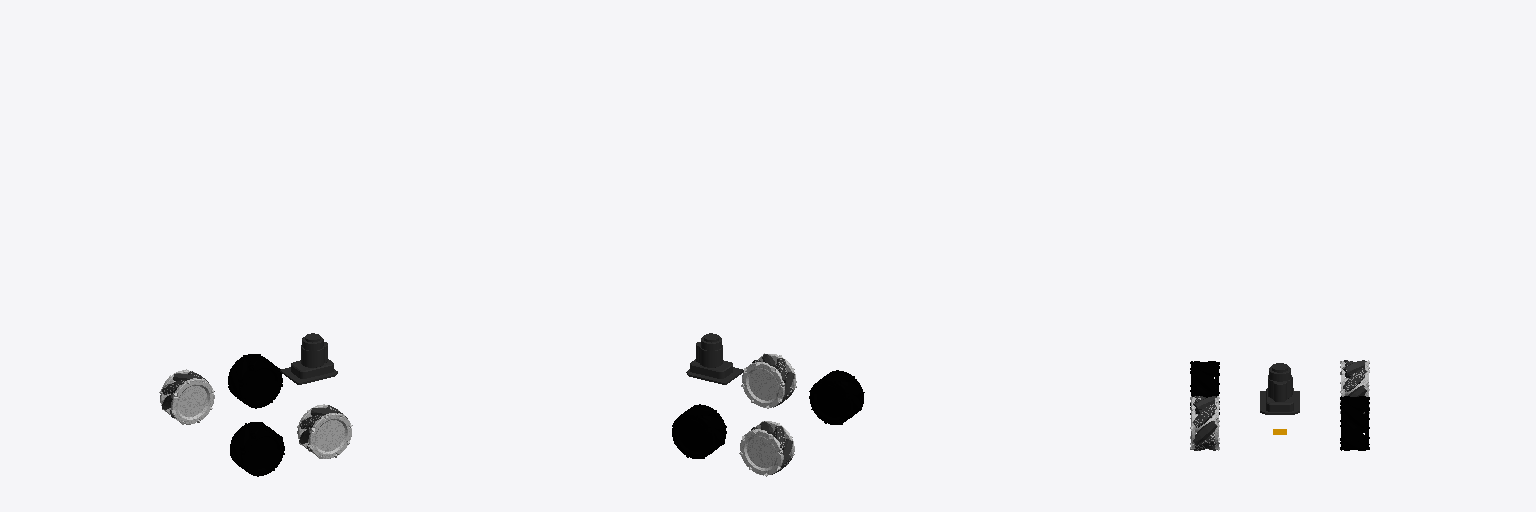
robot.urdf — WPV4_MW_WPM2:
<?xml version="1.0"?>
<robot name="WPV4_MW_WPM2">

  <!-- material -->
  <material name = "black">
    <color rgba = "0.01 0.01 0.01 1"/>
  </material>
  <material name = "grey">
    <color rgba = "0.2 0.2 0.2 1"/>
  </material>
  <material name = "light_grey">
      <color rgba = "0.5 0.5 0.5 1"/>
  </material>
  <material name = "blue">
    <color rgba = "0.2 0.2 0.9 1"/>
  </material>


<link name="base_footprint">
    <visual>
      <origin xyz="0 0 0" rpy="0 0 0" />
      <geometry>
        <box size="0.05 0.05 0.001" />
      </geometry>
      <material name="TransparentGreen" />
    </visual>
    <collision>
      <origin xyz="0 0 .1" rpy="0 0 0" />
      <geometry>
        <box size="0.76 0.5 .2"/>
      </geometry>
    </collision>
    <inertial>
    <mass value="10"/>
    <inertia ixx="0.4" ixy="0.0" ixz="0.0" iyy="0.4" iyz="0.0" izz="0.2"/>
    </inertial>
</link>

<joint name="base_joint" type="fixed">
  <origin xyz="0 0 0.06" rpy="0 0 0" />
  <parent link="base_footprint"/>
  <child link="base_link" />
</joint>

  <!-- base -->
  <link name="base_link">
  <visual>
   <geometry>
    <cylinder length="0.6" radius="0.0"/>
   </geometry>
   <origin rpy = "0 0 0" xyz = "0 0 0"/>
  </visual>
  </link>

  <!-- body -->
  <link name = "body_link">
    <visual>
      <geometry>
        <mesh filename="package://wpv4_bringup/meshes/body.dae" scale="1 1 1"/>
      </geometry>
      <origin rpy = "1.57 0 1.57" xyz = "-0.38 -0.25 0"/>
    </visual>
    <collision>
      <origin xyz="0 0 .15" rpy="0 0 0" />
      <geometry>
        <box size="0.76 0.5 0.095"/>
      </geometry>
    </collision>
    <inertial>
    <mass value="10"/>
    <inertia ixx="0.4" ixy="0.0" ixz="0.0" iyy="0.4" iyz="0.0" izz="0.2"/>
    </inertial>
  </link>
  <joint name = "base_to_body" type = "fixed">
    <parent link = "base_link"/>
    <child link = "body_link"/>
    <origin rpy="0 0 0" xyz="0 0 0"/> <!--pos-->
  </joint>
  <gazebo reference = "body_link">
            <turnGravityOff>false</turnGravityOff>
  </gazebo>

  <!-- wheel -->
  <link name = "lf_wheel">
    <visual>
      <geometry>
        <mesh filename="package://wpv4_bringup/meshes/mecanum_left.dae" scale="0.001 0.001 0.001"/>
      </geometry>
      <origin rpy = "1.57 0 0" xyz = "-0.098  0.07 -0.098"/>
      <material name = "black"/>
    </visual>
    <collision>
      <origin xyz="0 0 0" rpy="1.57 0 0" />
      <geometry>
        <cylinder radius="0.13" length="0.08"/>
      </geometry>
    </collision>
    <inertial>
    <mass value="10"/>
    <inertia ixx="0.4" ixy="0.0" ixz="0.0" iyy="0.4" iyz="0.0" izz="0.2"/>
    </inertial>
  </link>
  <joint name = "base_to_lf_wheal" type = "continuous">
    <axis rpy="0 0 0" xyz="0 1 0"/>
    <parent link = "base_link"/>
    <child link = "lf_wheel"/>
    <origin rpy="0 0 0" xyz="0.135 0.26 0.038"/> <!--pos to base-->
  </joint>
   <gazebo reference = "lf_wheel">
            <mu1 value = "1.0"/>
            <mu2 value = "1.0"/>
            <kp value = "10.0"/>
            <kd value = "1.0"/>
            <fdir1 value = "1 0 0"/>
            <turnGravityOff>true</turnGravityOff>
  </gazebo>

<link name = "rf_wheel">
  <visual>
    <geometry>
      <mesh filename="package://wpv4_bringup/meshes/mecanum_right.dae" scale="0.001 0.001 0.001"/>
      </geometry>
      <origin rpy = "1.57 0 0" xyz = "-0.10 0.07 -0.10"/>
  </visual>
  <collision>
    <origin xyz="0 0 0" rpy="1.57 0 0" />
    <geometry>
      <cylinder radius="0.13" length="0.08"/>
    </geometry>
  </collision>
  <inertial>
  <mass value="10"/>
  <inertia ixx="0.4" ixy="0.0" ixz="0.0" iyy="0.4" iyz="0.0" izz="0.2"/>
  </inertial>
</link>
<joint name = "base_to_rf_wheal" type = "continuous">
  <axis rpy="0 0 0" xyz="0 -1 0"/>
  <parent link = "base_link"/>
  <child link = "rf_wheel"/>
  <origin rpy="0 0 3.14" xyz="0.135 -0.26 0.038"/> <!--pos-->
</joint>
 <gazebo reference = "rf_wheel">
            <mu1 value = "1.0"/>
            <mu2 value = "1.0"/>
            <kp value = "10.0"/>
            <kd value = "1.0"/>
            <fdir1 value = "1 0 0"/>
            <turnGravityOff>false</turnGravityOff>
        </gazebo>

<link name = "lb_wheel">
  <visual>
    <geometry>
     <mesh filename="package://wpv4_bringup/meshes/mecanum_right.dae" scale="0.001 0.001 0.001"/>
      </geometry>
      <origin rpy = "1.57 0 0" xyz = "-0.10  0.07 -0.10"/>
  </visual>
  <collision>
    <origin xyz="0 0 0" rpy="1.57 0 0" />
    <geometry>
      <cylinder radius="0.13" length="0.08"/>
    </geometry>
  </collision>
  <inertial>
  <mass value="10"/>
  <inertia ixx="0.4" ixy="0.0" ixz="0.0" iyy="0.4" iyz="0.0" izz="0.2"/>
  </inertial>
</link>
<joint name = "base_to_lb_wheal" type = "continuous">
  <axis rpy="0 0 0" xyz="0 1 0"/>
  <parent link = "base_link"/>
  <child link = "lb_wheel"/>
  <origin rpy="0 0 0" xyz="-0.175 0.26 0.038"/> <!--pos to base-->
</joint>
 <gazebo reference = "lb_wheel">
            <mu1 value = "1.0"/>
            <mu2 value = "1.0"/>
            <kp value = "10.0"/>
            <kd value = "1.0"/>
            <fdir1 value = "1 0 0"/>
            <turnGravityOff>false</turnGravityOff>
        </gazebo>

<link name = "rb_wheel">
  <visual>
    <geometry>
      <mesh filename="package://wpv4_bringup/meshes/mecanum_left.dae" scale="0.001 0.001 0.001"/>
      </geometry>
      <origin rpy = "1.57 0 0" xyz = "-0.10  0.07 -0.10"/>
    <material name = "black"/>
  </visual>
  <collision>
    <origin xyz="0 0 0" rpy="1.57 0 0" />
    <geometry>
      <cylinder radius="0.13" length="0.08"/>
    </geometry>
  </collision>
  <inertial>
  <mass value="10"/>
  <inertia ixx="0.4" ixy="0.0" ixz="0.0" iyy="0.4" iyz="0.0" izz="0.2"/>
  </inertial>
</link>
<joint name = "base_to_rb_wheal" type = "continuous">
  <axis rpy="0 0 0" xyz="0 -1 0"/>
  <parent link = "base_link"/>
  <child link = "rb_wheel"/>
  <origin rpy="0 0 3.14" xyz="-0.175 -0.26 0.038"/> <!--pos-->
</joint>
<gazebo reference = "rb_wheel">
            <mu1 value = "1.0"/>
            <mu2 value = "1.0"/>
            <kp value = "10.0"/>
            <kd value = "1.0"/>
            <fdir1 value = "1 0 0"/>
            <turnGravityOff>false</turnGravityOff>
</gazebo>


<!-- ****manipulator ****-->
  <link name = "wpm2_joint_1">
    <visual>
        <geometry>
            <mesh filename="package://wpv4_bringup/meshes/m2_base.stl" scale="1 1 1"/>
        </geometry>
        <material name = "grey"/>
        <origin rpy = "1.57 0 1.57" xyz = "-0.16 -0.075 0"/>
    </visual>
</link>
  <joint name = "base_mani" type = "fixed">
    <parent link = "base_link"/>
    <child link = "wpm2_joint_1"/>
    <origin xyz = "0.24 0 .16"/>
</joint>
<!-- mani_part_2 -->
  <link name = "wpm2_joint_2">
    <visual>
        <geometry>
            <mesh filename="package://wpm2_bringup/meshes/wpm2_joint_2.stl" scale="1 1 1"/>
        </geometry>
        <material name = "light_grey"/>
        <origin rpy = "-1.57 0 1.57" xyz = "0.135 -0.07 0.1285"/>
    </visual>
</link>
    <joint name = "joint1_joint2" type = "revolute">
    <parent link = "wpm2_joint_1"/>
    <child link = "wpm2_joint_2"/>
    <axis xyz = "0 0 1"/>
    <origin xyz = "0 0 0.1585"/>
    <limit effort = "1000.0" lower="-3.14" upper="3.14" velocity="0.5"/>
</joint>

<!-- mani_part_3 -->
<link name = "wpm2_joint_3">
    <visual>
        <geometry>
            <mesh filename="package://wpm2_bringup/meshes/wpm2_joint_3.stl" scale="1 1 1"/>
        </geometry>
        <material name = "grey"/>
        <origin rpy = "1.57 0 1.57" xyz = "-0.12 -0.08 -0.048"/>
    </visual>
</link>
    <joint name = "joint2_joint3" type = "revolute">
    <parent link = "wpm2_joint_2"/>
    <child link = "wpm2_joint_3"/>
    <axis xyz = "0 -1 0"/>
    <origin xyz = "0 0 0.0825"/>
    <limit effort = "1000.0" lower="-3.14" upper="3.14" velocity="0.5"/>
</joint>

<!-- mani_part_4 -->
<link name = "wpm2_joint_4">
    <visual>
        <geometry>
            <mesh filename="package://wpm2_bringup/meshes/wpm2_joint_4.stl" scale="1 1 1"/>
        </geometry>
        <material name = "light_grey"/>
        <origin rpy = "0 1.57 0" xyz = "-0.116 -0.057 0.122"/>
    </visual>
</link>
    <joint name = "joint3_joint4" type = "revolute">
    <parent link = "wpm2_joint_3"/>
    <child link = "wpm2_joint_4"/>
    <axis xyz = "0 0 1"/>
    <origin xyz = "0 0 0.197"/>
    <limit effort = "1000.0" lower="-3.14" upper="3.14" velocity="0.5"/>
</joint>

<!-- mani_part_5 -->
<link name = "wpm2_joint_5">
    <visual>
        <geometry>
            <mesh filename="package://wpm2_bringup/meshes/wpm2_joint_5.stl" scale="1 1 1"/>
        </geometry>
        <material name = "grey"/>
        <origin rpy = "0 -1.57 0" xyz = "0.107 -0.053 -0.033"/>
    </visual>
</link>
    <joint name = "joint4_joint5" type = "revolute">
    <parent link = "wpm2_joint_4"/>
    <child link = "wpm2_joint_5"/>
    <axis xyz = "1 0 0"/>
    <origin xyz = "0 0 0.076"/>
    <limit effort = "1000.0" lower="-3.14" upper="3.14" velocity="0.5"/>
</joint>

<!-- mani_part_6 -->
<link name = "wpm2_joint_6">
    <visual>
        <geometry>
            <mesh filename="package://wpm2_bringup/meshes/wpm2_joint_4.stl" scale="1 1 1"/>
        </geometry>
        <material name = "light_grey"/>
        <origin rpy = "0 1.57 1.57" xyz = "0.055 -0.115 0.122"/>
    </visual>
</link>
    <joint name = "joint5_joint6" type = "revolute">
    <parent link = "wpm2_joint_5"/>
    <child link = "wpm2_joint_6"/>
    <axis xyz = "0 0 1"/>
    <origin xyz = "0 0 0.197"/>
    <limit effort = "1000.0" lower="-3.14" upper="3.14" velocity="0.5"/>
</joint>

<!-- mani_palm -->
<link name = "wpm2_palm">
    <visual>
        <geometry>
            <mesh filename="package://wpm2_bringup/meshes/wpm2_palm.stl" scale="1 1 1"/>
        </geometry>
        <material name = "grey"/>
        <origin rpy = "0 -1.57 1.57" xyz = "0.0566 0.0985 -0.034"/>
    </visual>
</link>
    <joint name = "joint6_palm" type = "revolute">
    <parent link = "wpm2_joint_6"/>
    <child link = "wpm2_palm"/>
    <axis xyz = "0 1 0"/>
    <origin xyz = "0 0 0.076"/>
    <limit effort = "1000.0" lower="-3.14" upper="3.14" velocity="0.5"/>
</joint>

<!-- finger -->
    <link name = "wpm2_left_finger">
    <visual>
        <geometry>
            <mesh filename="package://wpm2_bringup/meshes/wpm2_finger.stl" scale="0.001 0.001 0.001"/>
        </geometry>
            <material name = "light_grey"/>
        <origin rpy = "1.57 0 -1.57" xyz = ".021 0.005 -0.005"/>
    </visual>
</link>
<joint name = "wpm2_palm_finger" type = "revolute">
    <parent link = "wpm2_palm"/>
    <child link = "wpm2_left_finger"/>
    <origin xyz = "0 0.06 0.219"/>
    <axis xyz = "-1 0 0"/>
    <limit effort = "1000.0" lower="0" upper="1.0" velocity="0.5"/>
</joint>

    <link name = "wpm2_right_finger">
    <visual>
        <geometry>
            <mesh filename="package://wpm2_bringup/meshes/wpm2_finger.stl" scale="0.001 0.001 0.001"/>
        </geometry>
            <material name = "light_grey"/>
        <origin rpy = "1.57 0 1.57" xyz = "-0.0175 -0.005 -0.005"/>
    </visual>
</link>
<joint name = "wpm2_palm_right_finger" type = "revolute">
    <parent link = "wpm2_palm"/>
    <child link = "wpm2_right_finger"/>
    <origin xyz = "0 -0.06 0.219"/>
    <axis xyz = "1 0 0"/>
    <limit effort = "1000.0" lower="0" upper="1.0" velocity="0.5"/>
    <mimic joint = "wpm2_palm_finger" multiplier = "1" offset = "0"/>
</joint>
<!-- *****************-->

<!-- Lidar -->
<link name = "laser">
  <visual>
   <geometry>
    <cylinder length="0" radius="0"/>
   </geometry>
   <origin rpy = "0 0 0" xyz = "0 0 0"/>
  </visual>
  <collision>
    <origin xyz="0 0 0" rpy="0 0 0" />
    <geometry>
      <cylinder radius="0.03" length="0.03"/>
    </geometry>
  </collision>
  <inertial>
  <mass value="10"/>
  <inertia ixx="0.4" ixy="0.0" ixz="0.0" iyy="0.4" iyz="0.0" izz="0.2"/>
  </inertial>
</link>
<joint name="laser_joint" type="fixed">
    <origin rpy="0 0 0" xyz="0.2 0 0"  /> <!--pos-->
    <parent link="base_link" />
    <child link="laser" />
</joint>

<!-- velodyne -->
<link name = "velo_link">
  <visual>
   <geometry>
    <cylinder length="0.00" radius="0.00"/>
   </geometry>
   <origin rpy = "0 0 0" xyz = "0 0 0"/>
  </visual>
</link>
<joint name="velodyne_joint" type="fixed">
    <origin rpy="0 0 0" xyz="0.2 0 1.7"  /> <!--pos-->
    <parent link="base_link" />
    <child link="velo_link" />
</joint>

<!-- Kinect -->
<!-- Kinect -->
<link name = "kinect2_dock">
  <visual>
   <geometry>
    <!-- <box size=".01 .25 .07"/>-->
    <box size="0 0 0"/>
   </geometry>
   <origin rpy = "0 0 0" xyz = "0 0 0"/>
   <material name = "red"/>
  </visual>
</link>
<joint name="kinect_height" type="prismatic">
    <parent link="base_footprint"/>
    <child link="kinect2_dock"/>
    <limit effort="1000.0" lower="0" upper="1.7" velocity="0.5"/>
    <origin xyz="0.174 0 0" rpy="0 -1.5707963 0"/>
  </joint>

<link name = "kinect2_ir_optical_frame">
  <visual>
   <geometry>
    <!-- <box size=".25 .04 .07"/>-->
    <box size="0 0 0"/>
   </geometry>
   <origin xyz = "0 0 0" rpy = "0 0 0"/>
   <material name = "blue"/>
  </visual>
</link>

<joint name="kinect_pitch" type="revolute">
    <axis xyz="1 0 0"/>
    <limit effort="1000.0" lower="-1.57" upper="1.57" velocity="0.5"/>
    <origin xyz="0 0 0" rpy="3.1415926 0 -1.5707963" /> <!--pos-->
    <parent link="kinect2_dock" />
    <child link="kinect2_ir_optical_frame" />
</joint>
<!-- <joint name="kinect_joint" type="fixed">
    <origin xyz="0.174 0 1.35" rpy="-1.5707963 0 -1.5707963" /> 
    <parent link="base_link" />
    <child link="kinect2_ir_optical_frame" />
</joint>-->

<link name = "kinect2_rgb_optical_frame">
  <visual>
   <geometry>
    <box size="0 0 0"/>
   </geometry>
   <origin rpy = "0 0 0" xyz = "0 0 0"/>
   <material name = "blue"/>
  </visual>
</link>
<joint name="kinect_hd_joint" type="fixed">
    <origin xyz="0 0 0" rpy="0 0 0" /> <!--pos-->
    <parent link="kinect2_ir_optical_frame" />
    <child link="kinect2_rgb_optical_frame" />
</joint>

</robot>

--- What the picture shows (computed from the rendered views, not written in the file) ---
3 views of the same robot in one strip: view 1: azimuth 30°, elevation 25°; view 2: azimuth 150°, elevation 25°; view 3: azimuth 270°, elevation 25° (orthographic).
Robot: WPV4_MW_WPM2 — 21 links, 20 joints (9 revolute, 4 continuous, 1 prismatic, 6 fixed); root link base_footprint; default pose: every joint at zero.
Links seen in each view (by area): view 1: rf_wheel, lb_wheel, lf_wheel, rb_wheel, wpm2_joint_1; view 2: lb_wheel, rf_wheel, rb_wheel, lf_wheel, wpm2_joint_1; view 3: wpm2_joint_1, lf_wheel, rf_wheel, lb_wheel, rb_wheel.
Boxes of the visible links, <box> form: rf_wheel: <box>297,404,352,458</box>; lb_wheel: <box>159,369,214,424</box>; lf_wheel: <box>228,354,282,408</box>; rb_wheel: <box>230,422,284,476</box>; wpm2_joint_1: <box>280,333,337,384</box>; lb_wheel: <box>739,421,794,476</box>; rf_wheel: <box>741,353,796,408</box>; rb_wheel: <box>809,370,864,424</box>; lf_wheel: <box>672,404,726,458</box>; wpm2_joint_1: <box>686,333,743,384</box>; wpm2_joint_1: <box>1260,363,1299,414</box>; lf_wheel: <box>1340,396,1369,450</box>; rf_wheel: <box>1190,396,1219,450</box>; lb_wheel: <box>1340,360,1369,413</box>; rb_wheel: <box>1190,361,1219,414</box>.
Size in the robot's own frame: 0.5956 by 0.6604 by 2 metres.
5 mesh visuals loaded from 10 distinct referenced files (1 binary STL, 2 Collada DAE); not drawn: 8 (reference not matched to a file when rendering), 1 (file found but could not be loaded).